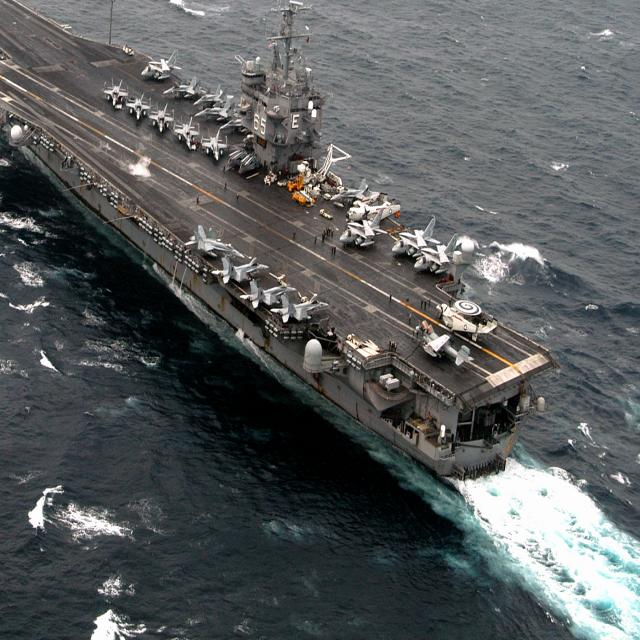Portanaves: (1, 1, 561, 494)
